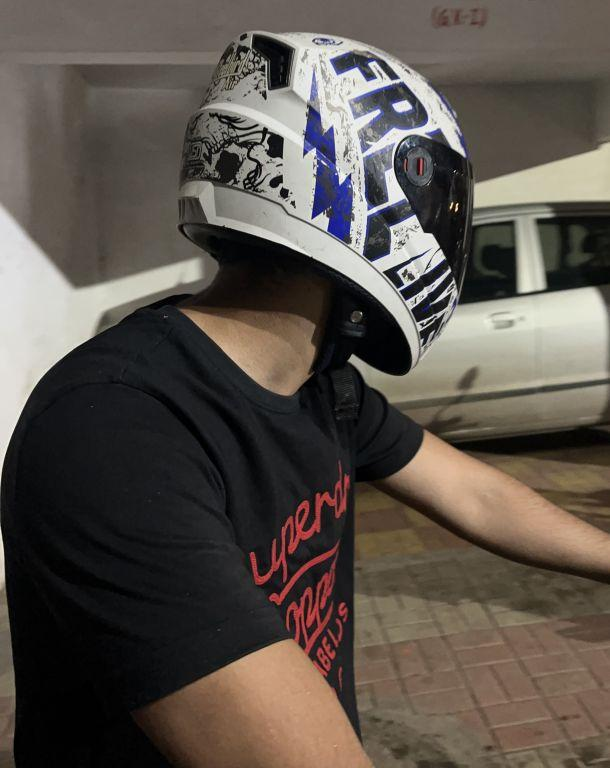helmet: (169, 12, 480, 391)
